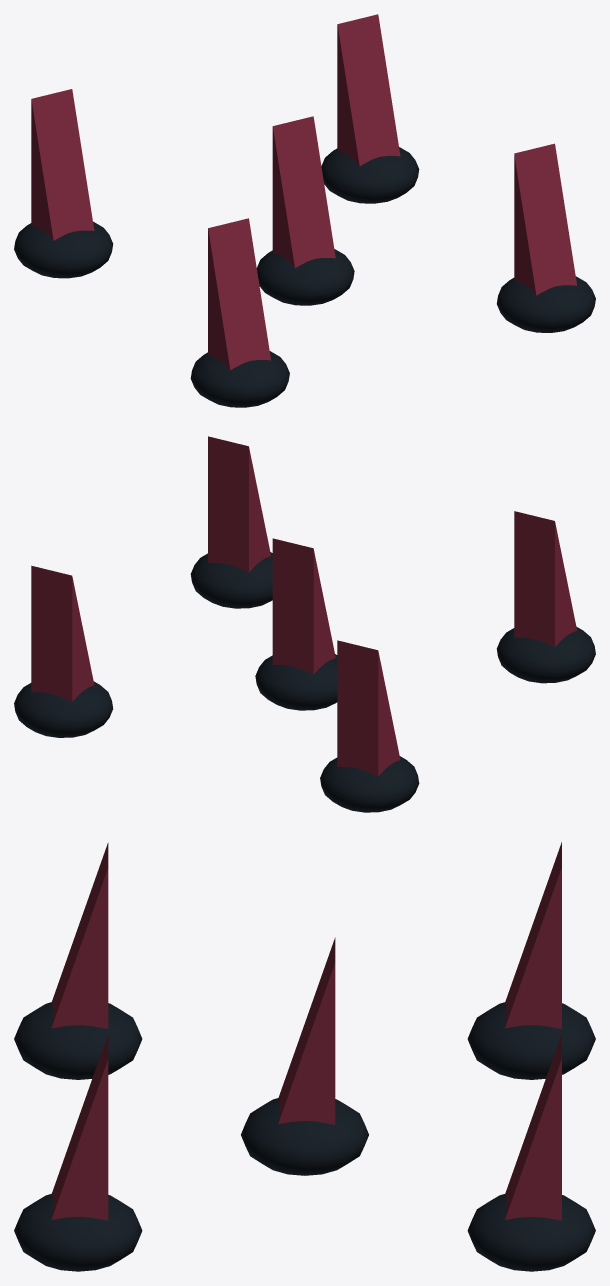
Rendered from CMU3DHiveXenoResinSpikes.glb.
3 views of the same model, one above another, from view 1: azimuth 30°, elevation 25°; view 2: azimuth 150°, elevation 25°; view 3: azimuth 270°, elevation 25° (orthographic). The views are drawn at different scales.
Parts seen in each view (by area): view 1: tapered resin barb (×5), spike socket (×5); view 2: tapered resin barb (×5), spike socket (×5); view 3: spike socket (×5), tapered resin barb (×5).
Part boxes in pixels (x1=…): tapered resin barb (×5): x1=31, y1=14, x2=576, y2=370; spike socket (×5): x1=14, y1=147, x2=595, y2=407; tapered resin barb (×5): x1=31, y1=436, x2=576, y2=776; spike socket (×5): x1=14, y1=552, x2=595, y2=812; spike socket (×5): x1=14, y1=1002, x2=595, y2=1271; tapered resin barb (×5): x1=51, y1=842, x2=561, y2=1220.
Size of the model in its own units: 0.77 by 0.315 by 0.77.
